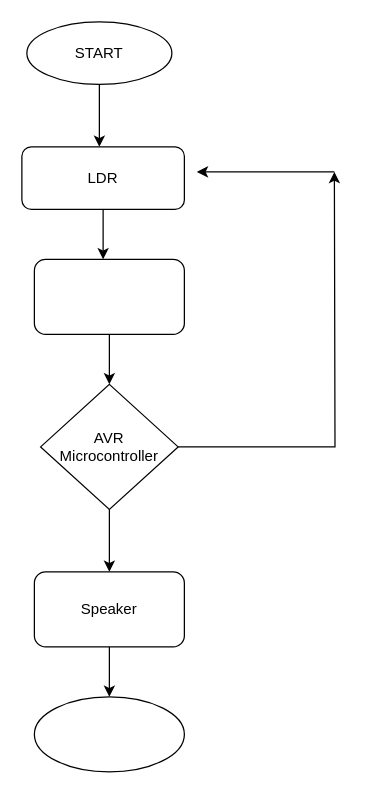
Image size: 368x794. Some labels were removed from this diagram. Here are the shapes that lost their labels. From the top down, the centre of each, then its label:
At point (108, 296): "LEDS".
At point (108, 734): "STOP".
